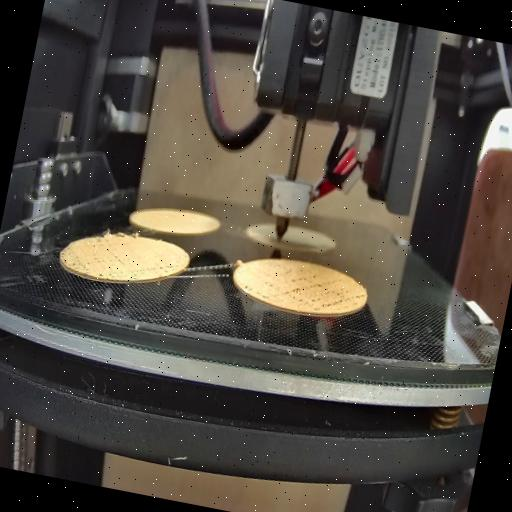under_extrusion: (282, 260, 358, 314), (73, 239, 133, 282), (142, 256, 178, 282), (240, 282, 271, 306)
